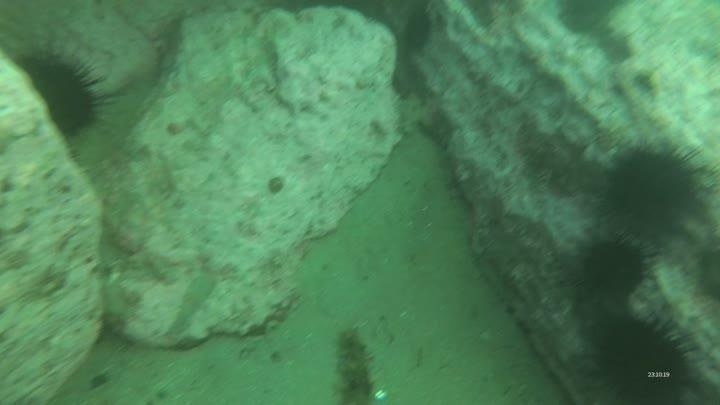echinus: (595, 136, 707, 243), (586, 310, 699, 404), (14, 45, 107, 140), (575, 232, 653, 302), (554, 1, 621, 38), (400, 5, 436, 55)
holothurian: (330, 324, 377, 404)
